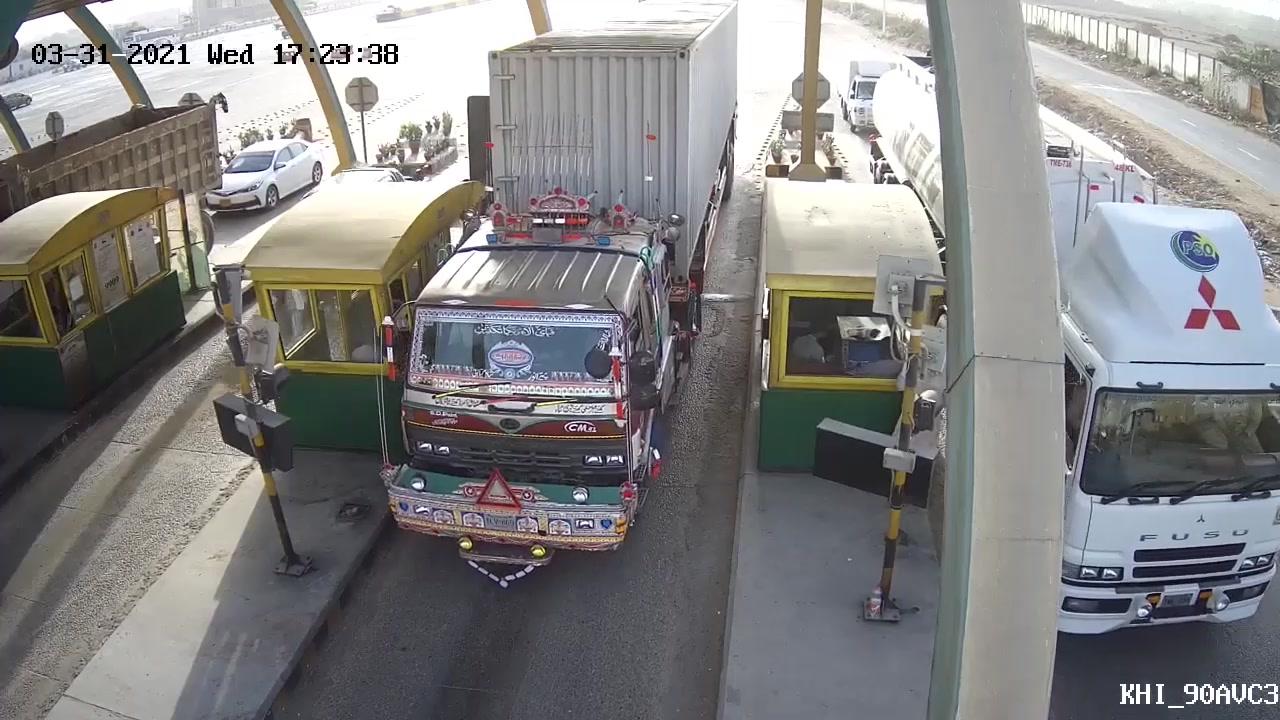F6: (377, 33, 711, 612)
